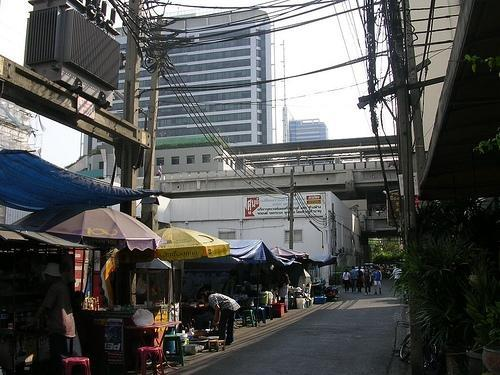bicycle: (398, 332, 438, 368)
